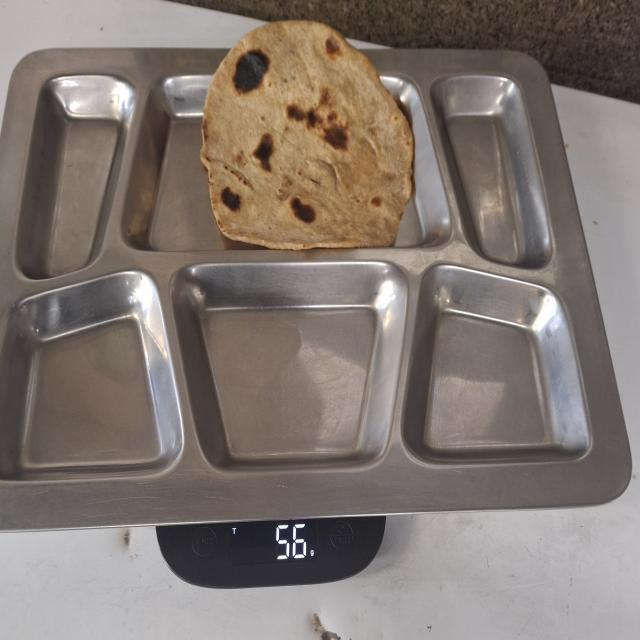Chapati: (198, 16, 418, 255)
